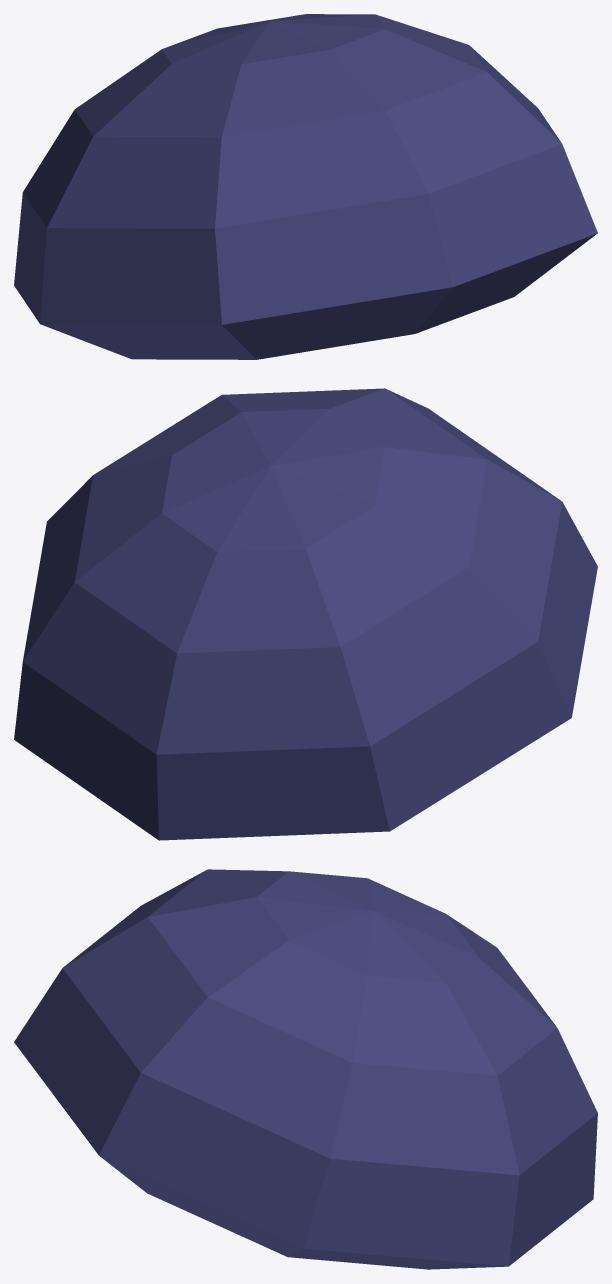
File: hairstyle_2.fbx
3 renders of one model, top to bottom at view 1: azimuth 30°, elevation 25°; view 2: azimuth 150°, elevation 25°; view 3: azimuth 270°, elevation 25°, orthographic.
Visible parts, largest first — view 1: hairstyle_2; view 2: hairstyle_2; view 3: hairstyle_2.
Boxes of the visible parts, x1,y1,x2,y2 form: hairstyle_2: (14, 14, 597, 359); hairstyle_2: (14, 388, 597, 840); hairstyle_2: (14, 869, 597, 1269).
Bounding box in the file's own units: 401 × 239 × 387.
